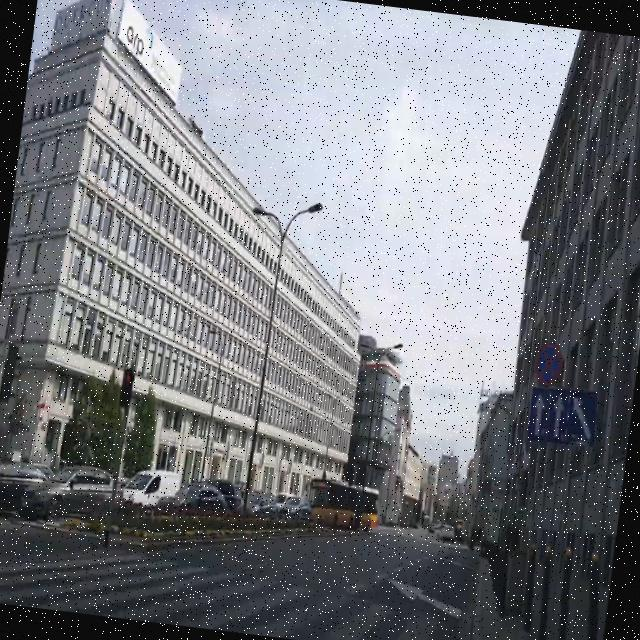Zakaz zatrzymywania sie: (532, 343, 564, 388)
